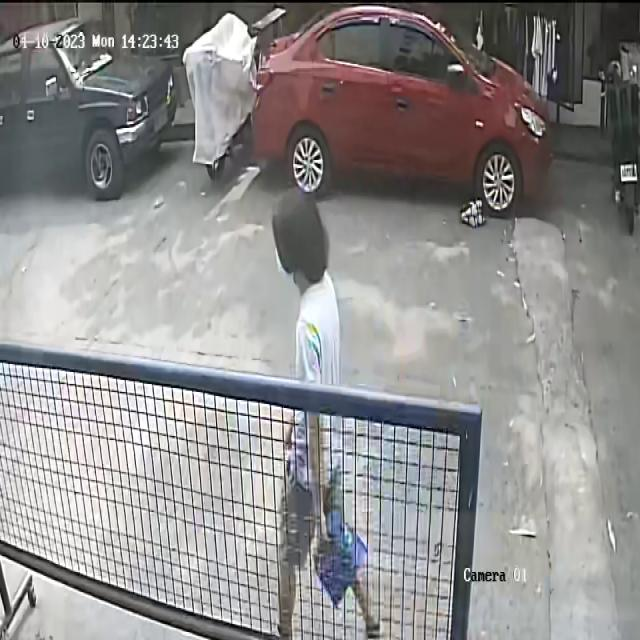garbage_dumping: (316, 498, 369, 606)
